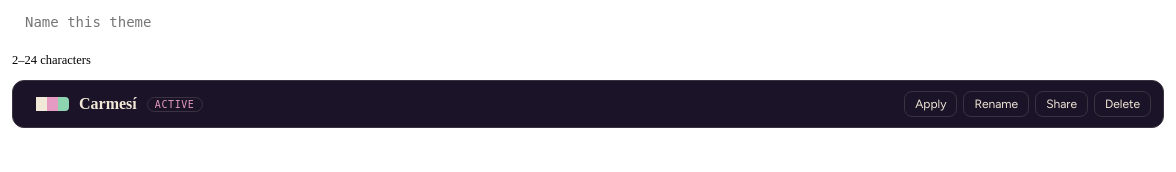
Test: PresetLibrary › Share with NO handle shows the "set a handle" message and does NOT fetch a PATCH
This screenshot has width=1176, height=172.
Click the button "Share". click: click(1062, 104)
box: x1=1035 y1=91 x2=1088 y2=117
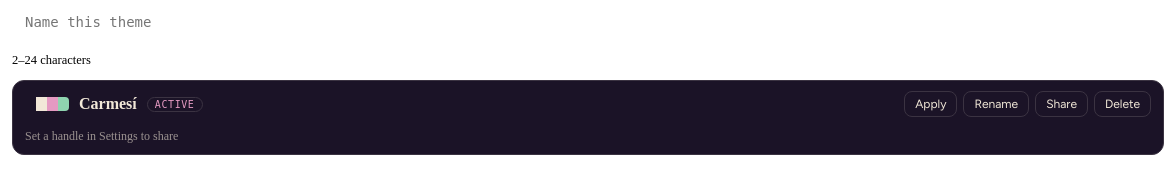
Now the text "Set a handle" is shown, box x1=25 y1=129 x2=178 y2=143
